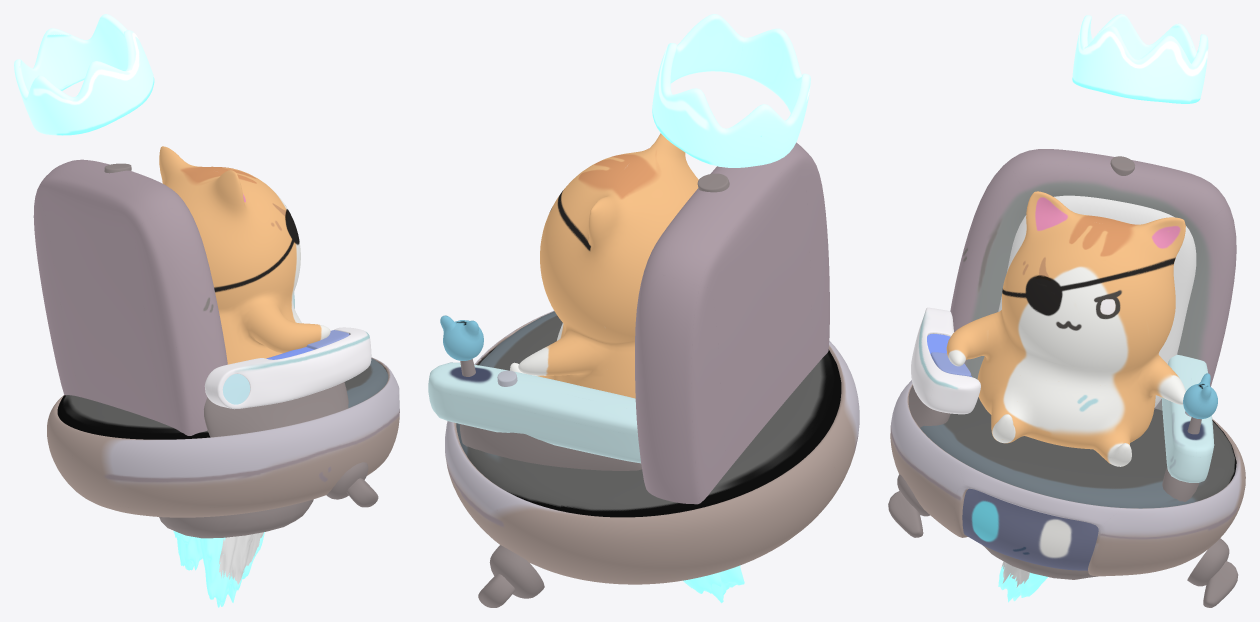
The model's file is a_red-haired_pirate_cat_on_a_chair.glb.
3 views of the same model, side by side, from view 1: azimuth 30°, elevation 25°; view 2: azimuth 150°, elevation 25°; view 3: azimuth 270°, elevation 25° (orthographic). The views are drawn at different scales.
Visible parts, largest first — view 1: Retopo_Plane.002, Retopo_Plane.011, Retopo_Cat, Retopo_Plane.004, Retopo_Plane.001, Retopo_Plane.010, Retopo_Plane.009, Landscape.002, Landscape.001, Retopo_Plane.014; view 2: Retopo_Plane.002, Retopo_Plane.011, Retopo_Cat, Retopo_Plane.009, Retopo_Plane.004, Retopo_Plane.006, Retopo_Plane.001, Retopo_Plane.007, Landscape.002; view 3: Retopo_Cat, Retopo_Plane.002, Retopo_Plane.011, Retopo_Plane.009, Retopo_Plane.004, Retopo_Plane.005, Retopo_Plane.001, Retopo_Plane.003, Retopo_Plane.006, Retopo_Plane.010, Retopo_Plane.007, Landscape.002 (+1 smaller).
Boxes of the visible parts, x1,y1,x2,y2 form: Retopo_Plane.002: [33, 159, 227, 435]; Retopo_Plane.011: [47, 357, 399, 517]; Retopo_Cat: [159, 146, 330, 364]; Retopo_Plane.004: [14, 14, 154, 135]; Retopo_Plane.001: [104, 163, 378, 538]; Retopo_Plane.010: [204, 327, 371, 409]; Retopo_Plane.009: [57, 358, 388, 439]; Landscape.002: [173, 530, 264, 607]; Landscape.001: [219, 532, 263, 584]; Retopo_Plane.014: [222, 374, 250, 404]; Retopo_Plane.002: [635, 142, 829, 504]; Retopo_Plane.011: [445, 310, 859, 584]; Retopo_Cat: [510, 133, 698, 398]; Retopo_Plane.009: [456, 311, 841, 517]; Retopo_Plane.004: [652, 14, 810, 167]; Retopo_Plane.006: [428, 362, 640, 463]; Retopo_Plane.001: [459, 173, 729, 607]; Retopo_Plane.007: [440, 315, 483, 376]; Landscape.002: [683, 565, 744, 603]; Retopo_Cat: [946, 191, 1185, 466]; Retopo_Plane.002: [950, 149, 1236, 410]; Retopo_Plane.011: [890, 380, 1245, 576]; Retopo_Plane.009: [920, 397, 1236, 508]; Retopo_Plane.004: [1072, 14, 1208, 103]; Retopo_Plane.005: [962, 488, 1098, 570]; Retopo_Plane.001: [888, 156, 1238, 607]; Retopo_Plane.003: [998, 195, 1196, 407]; Retopo_Plane.006: [1161, 354, 1214, 482]; Retopo_Plane.010: [911, 307, 980, 414]; Retopo_Plane.007: [1183, 373, 1217, 434]; Landscape.002: [998, 565, 1047, 602].
Size of the model in its own units: 2.24 by 3.73 by 2.18.
17 materials, 10 textured.
